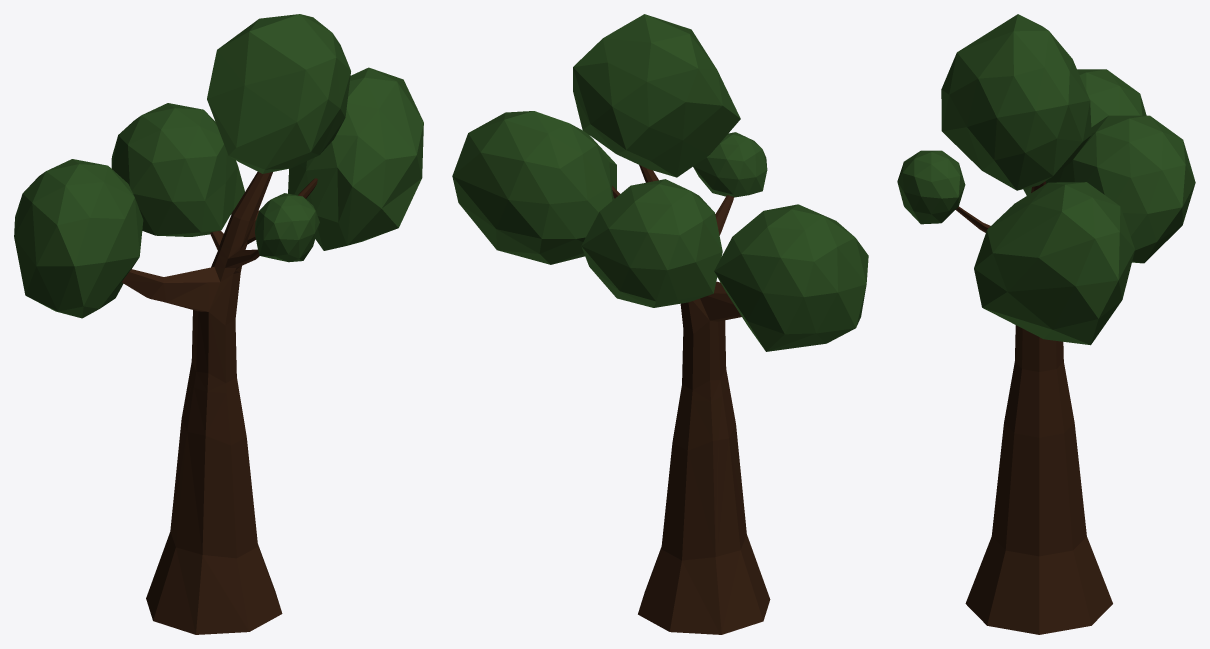
File: Tree2_fract.FBX
3 views of the same model, side by side, from view 1: azimuth 30°, elevation 25°; view 2: azimuth 150°, elevation 25°; view 3: azimuth 270°, elevation 25° (orthographic). The views are drawn at different scales.
Parts seen in each view (by area): view 1: oak tree 5_Part_10, oak tree 5_Part_7, oak tree 5_Part_3, oak tree 5_Part_8, oak tree 5_Part_1, oak tree 5_Part_4, oak tree 5_Part_6, oak tree 5_Part_9, oak tree 5_Part_2, oak tree 5_Part_5; view 2: oak tree 5_Part_1, oak tree 5_Part_2, oak tree 5_Part_3, oak tree 5_Part_5, oak tree 5_Part_4, oak tree 5_Part_9, oak tree 5_Part_10, oak tree 5_Part_7, oak tree 5_Part_6, oak tree 5_Part_8; view 3: oak tree 5_Part_5, oak tree 5_Part_4, oak tree 5_Part_7, oak tree 5_Part_1, oak tree 5_Part_2, oak tree 5_Part_9, oak tree 5_Part_10, oak tree 5_Part_6, oak tree 5_Part_3, oak tree 5_Part_8.
Boxes of the visible parts, x1,y1,x2,y2 form: oak tree 5_Part_10: (146, 386, 280, 634); oak tree 5_Part_7: (208, 51, 356, 262); oak tree 5_Part_3: (14, 159, 130, 318); oak tree 5_Part_8: (113, 160, 259, 302); oak tree 5_Part_1: (172, 14, 343, 171); oak tree 5_Part_4: (304, 40, 423, 205); oak tree 5_Part_6: (165, 266, 241, 392); oak tree 5_Part_9: (288, 162, 420, 250); oak tree 5_Part_2: (85, 103, 215, 194); oak tree 5_Part_5: (157, 381, 282, 614); oak tree 5_Part_1: (587, 14, 733, 200); oak tree 5_Part_2: (581, 182, 769, 321); oak tree 5_Part_3: (747, 204, 868, 351); oak tree 5_Part_5: (638, 394, 720, 634); oak tree 5_Part_4: (452, 51, 612, 189); oak tree 5_Part_9: (453, 178, 616, 264); oak tree 5_Part_10: (717, 385, 770, 634); oak tree 5_Part_7: (606, 27, 767, 215); oak tree 5_Part_6: (680, 297, 741, 401); oak tree 5_Part_8: (608, 214, 756, 338); oak tree 5_Part_5: (986, 372, 1112, 634); oak tree 5_Part_4: (975, 84, 1130, 295); oak tree 5_Part_7: (897, 47, 1079, 224); oak tree 5_Part_1: (965, 14, 1131, 199); oak tree 5_Part_2: (1086, 88, 1195, 256); oak tree 5_Part_9: (974, 225, 1142, 345); oak tree 5_Part_10: (965, 371, 1016, 624); oak tree 5_Part_6: (1013, 325, 1065, 383); oak tree 5_Part_3: (1023, 69, 1146, 195); oak tree 5_Part_8: (967, 165, 1150, 263).
Size of the model in its own units: 1055 by 1477 by 655.
